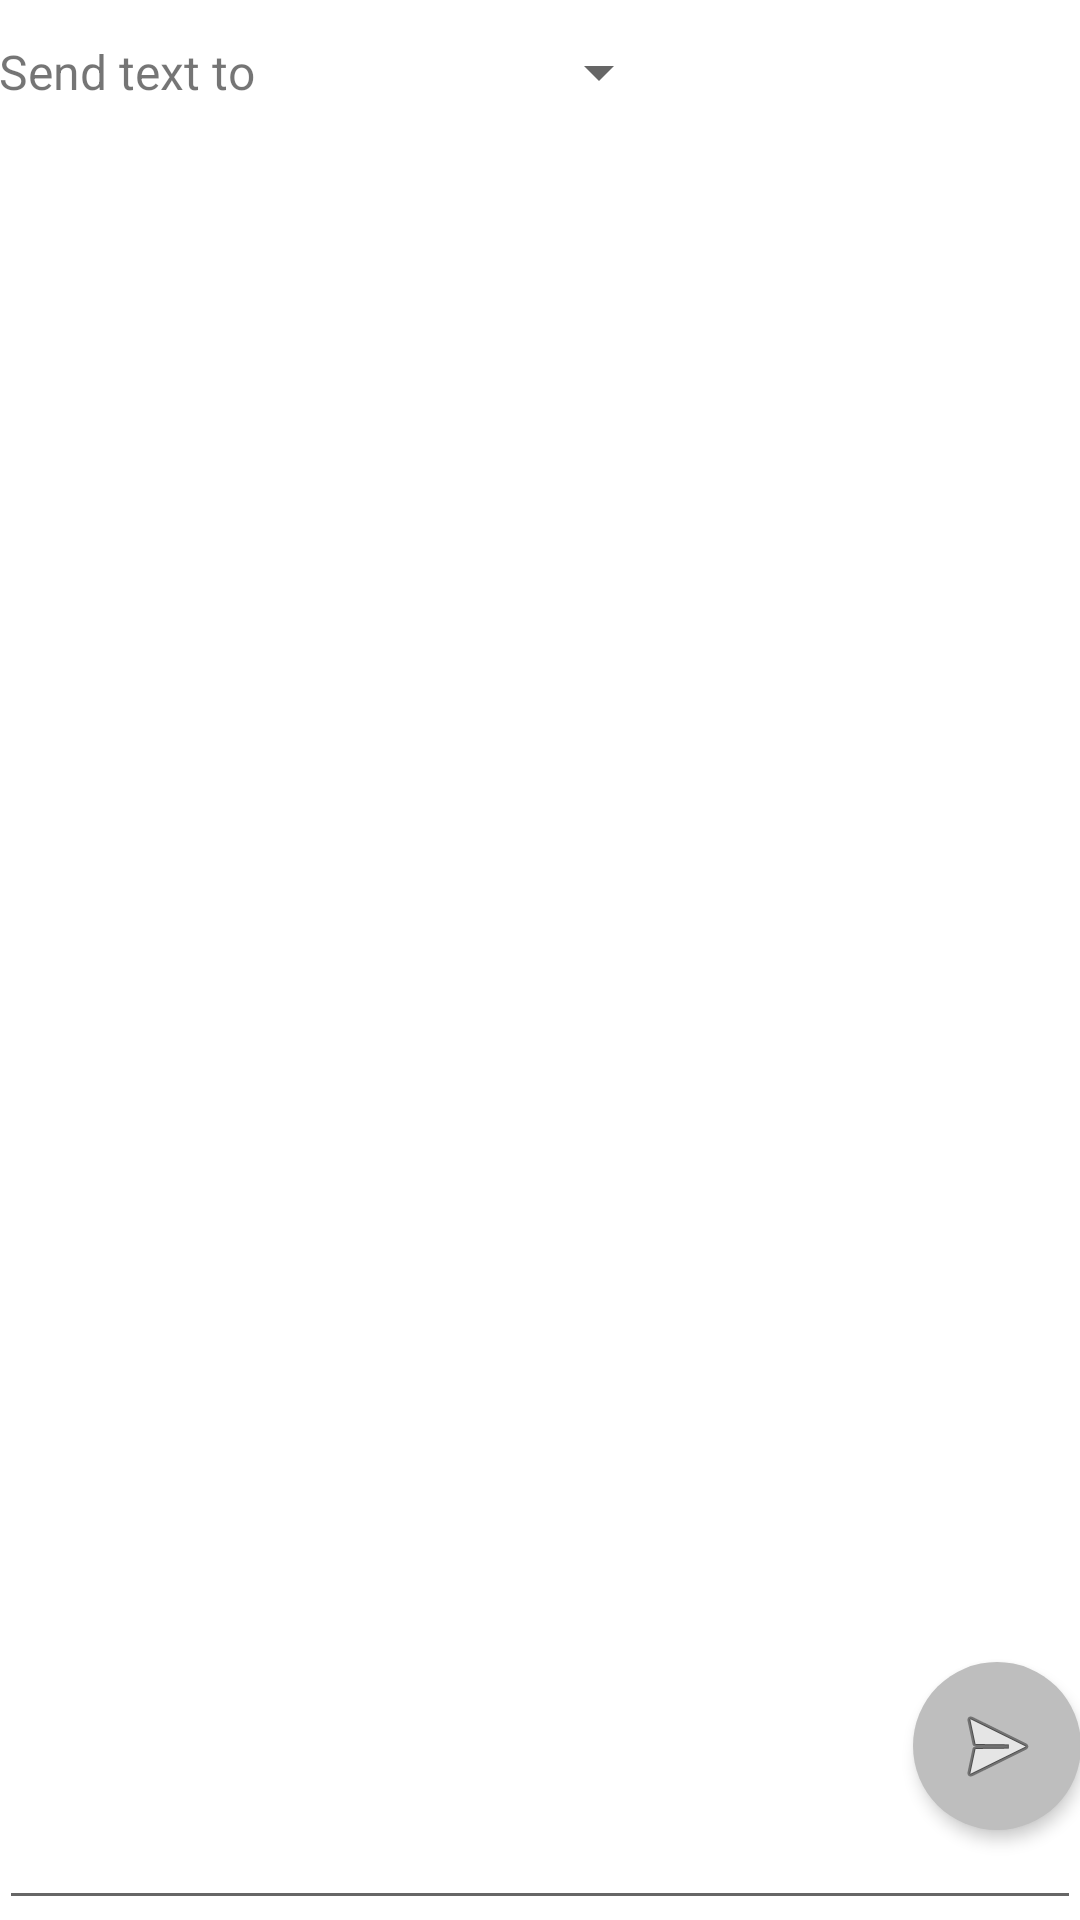

Screen size 1080 x 1920. Icon name, then its box in pixels as (x1, y1, x2, y2):
send: (913, 1662, 1080, 1830)
